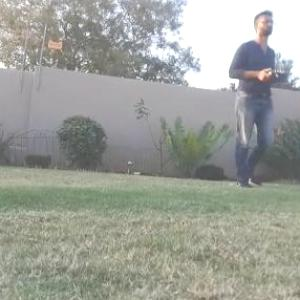follow: (222, 3, 288, 193)
